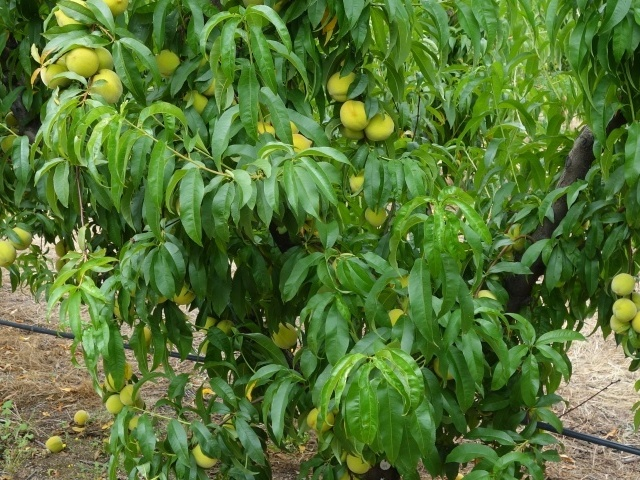peach: (89, 67, 128, 106), (63, 44, 102, 81), (325, 65, 364, 102), (337, 95, 374, 134), (363, 108, 397, 144), (151, 48, 185, 81), (39, 58, 71, 91), (188, 439, 222, 470), (92, 42, 124, 72), (284, 129, 317, 157), (271, 319, 302, 348), (304, 403, 335, 432), (342, 448, 371, 476), (612, 295, 639, 325), (609, 268, 635, 299), (363, 200, 391, 228), (8, 224, 38, 249), (187, 87, 212, 117), (116, 383, 141, 406), (1, 239, 18, 272), (100, 371, 124, 394), (610, 311, 631, 336), (103, 393, 124, 415)
